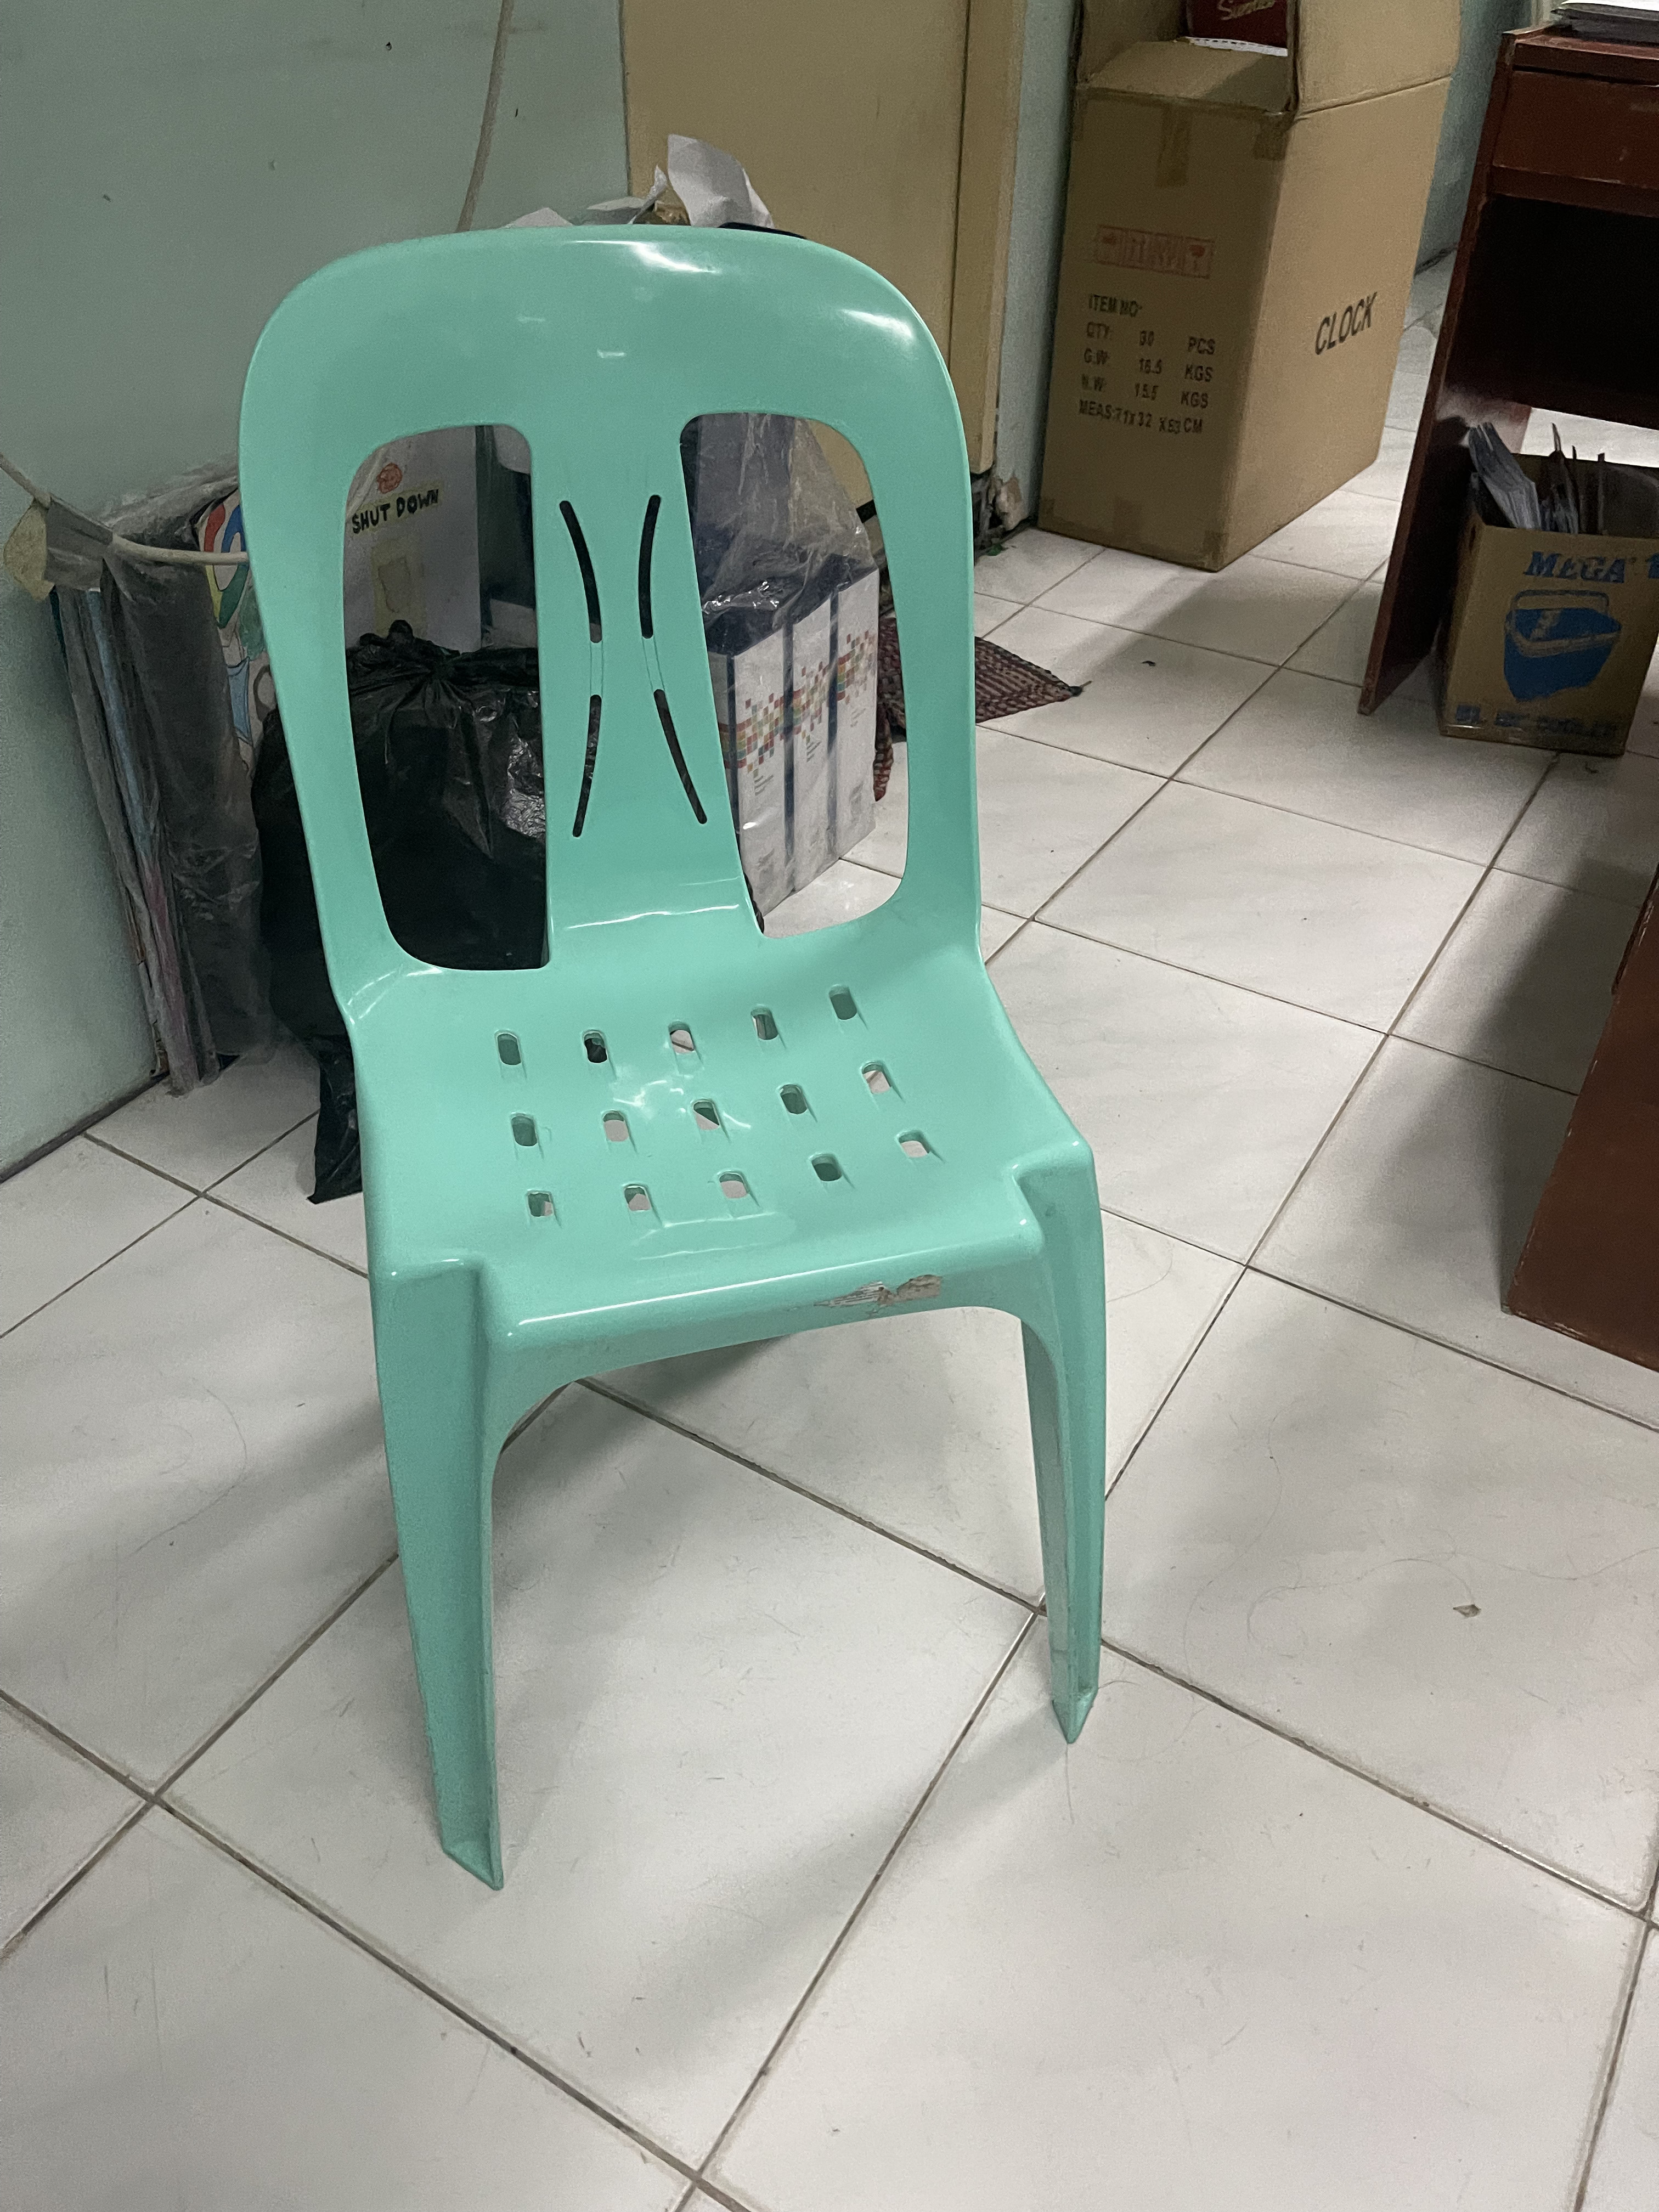chair2: (218, 219, 1122, 1902)
